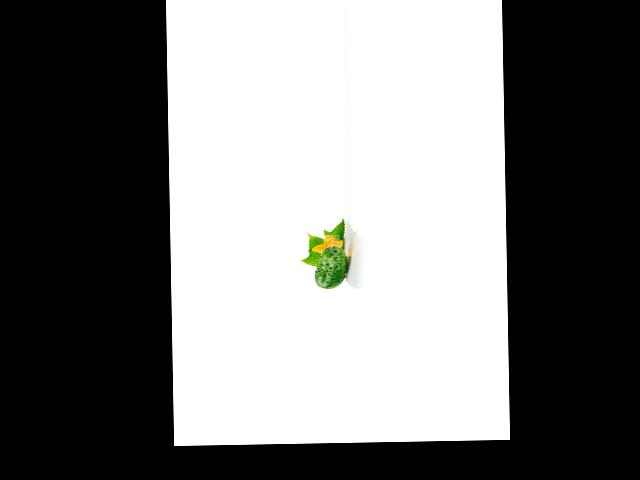cucumber: (314, 247, 348, 289)
